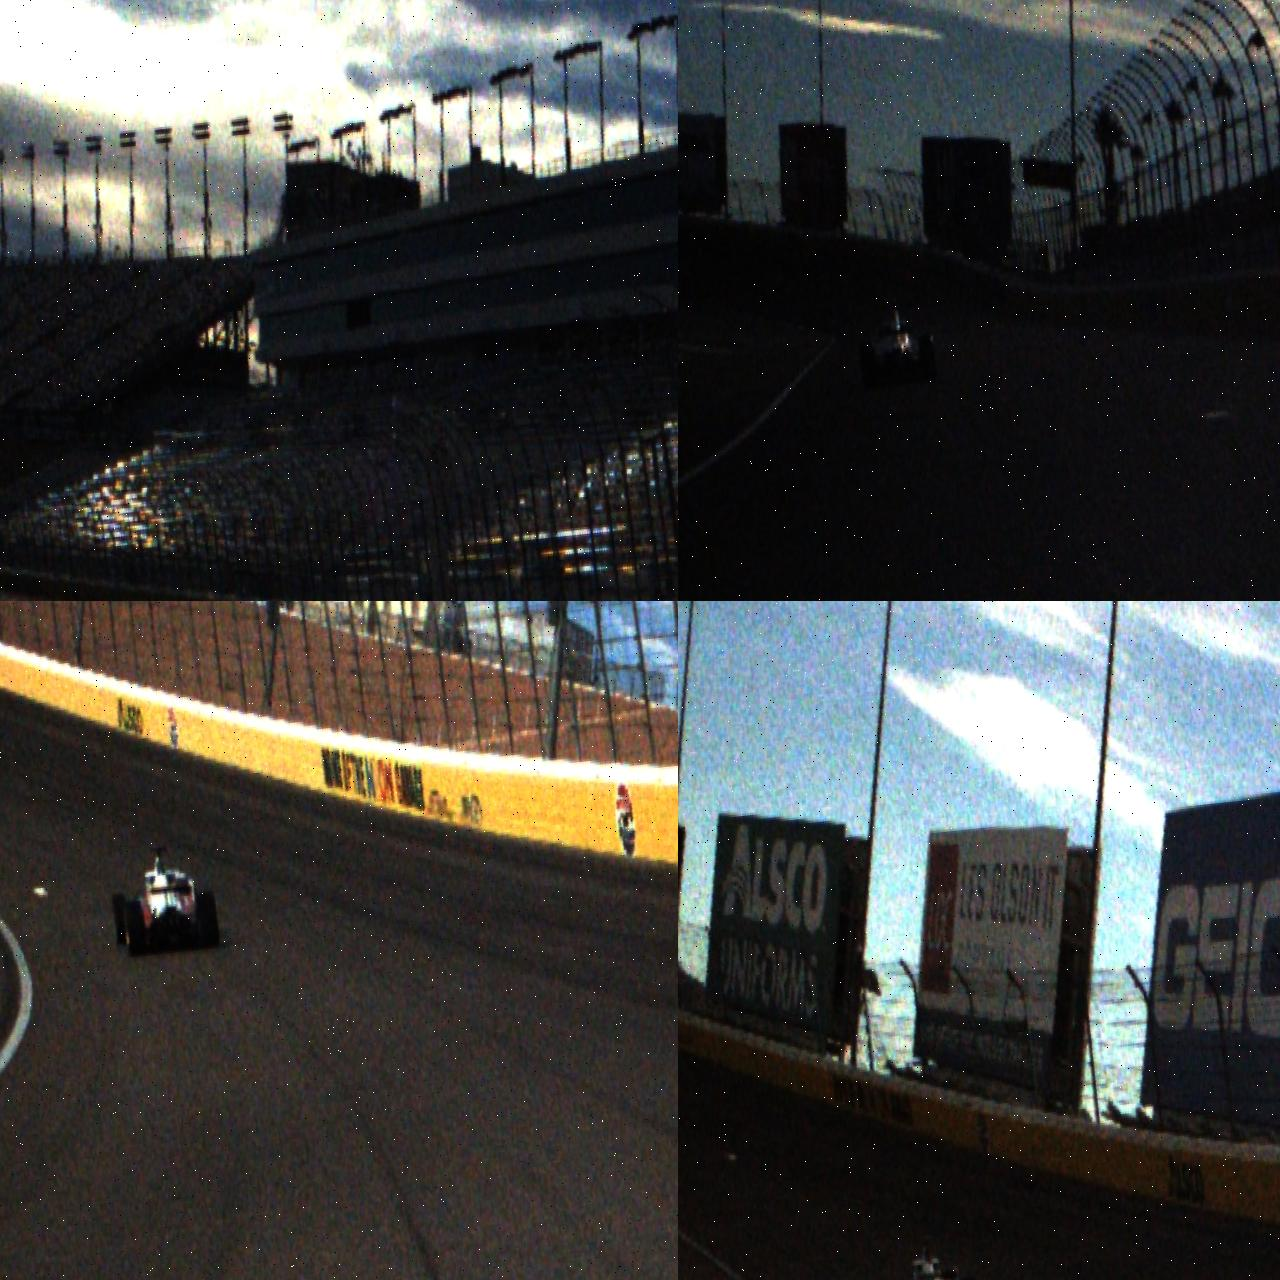AV: (107, 840, 221, 960), (854, 293, 940, 390), (875, 1228, 984, 1280)
Wheel: (123, 900, 148, 959), (196, 891, 221, 950), (111, 892, 131, 946), (919, 336, 940, 384), (858, 340, 878, 390)
